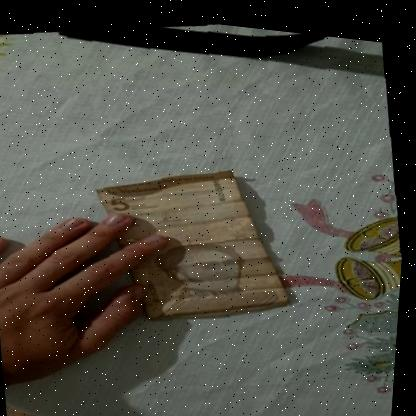vef_front: (89, 145, 303, 334)
